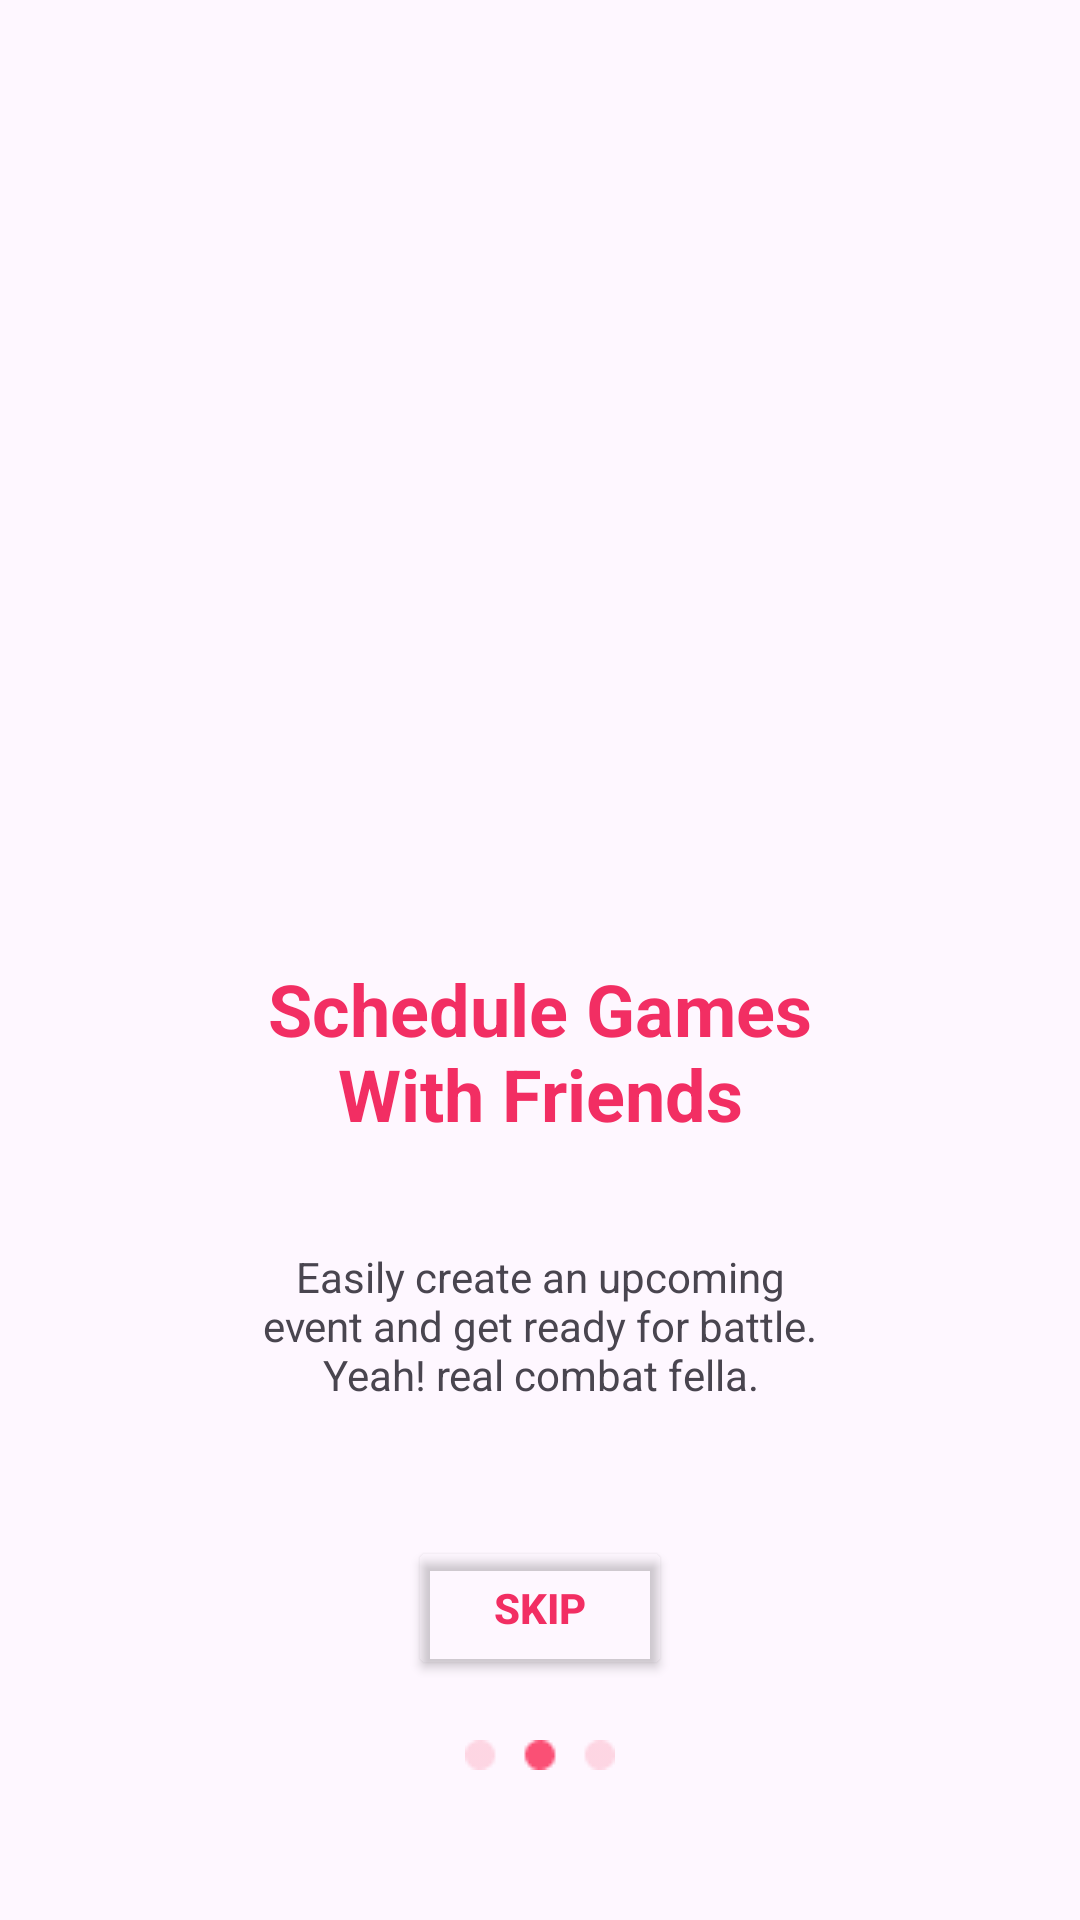

Screen size 1080x1920. Icon name, then its center in pixels as point (x, y):
slider dots: point (540, 1755)
